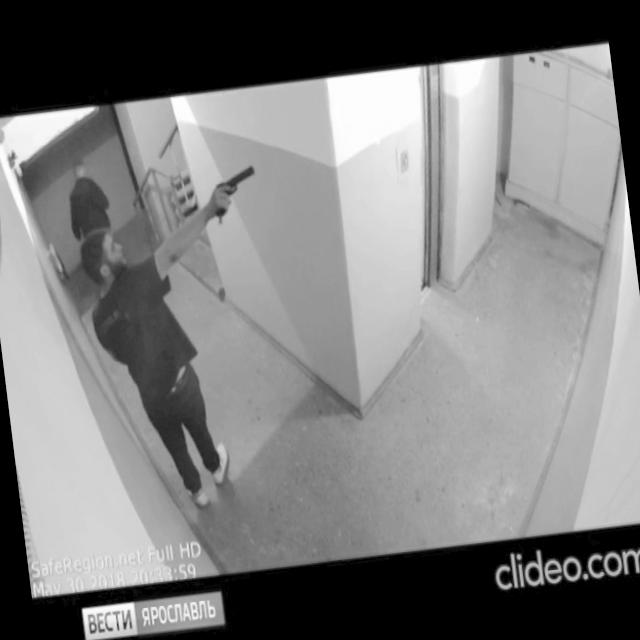gun: (210, 162, 262, 221)
person: (63, 156, 122, 288)
person with a gun: (69, 160, 298, 524)
